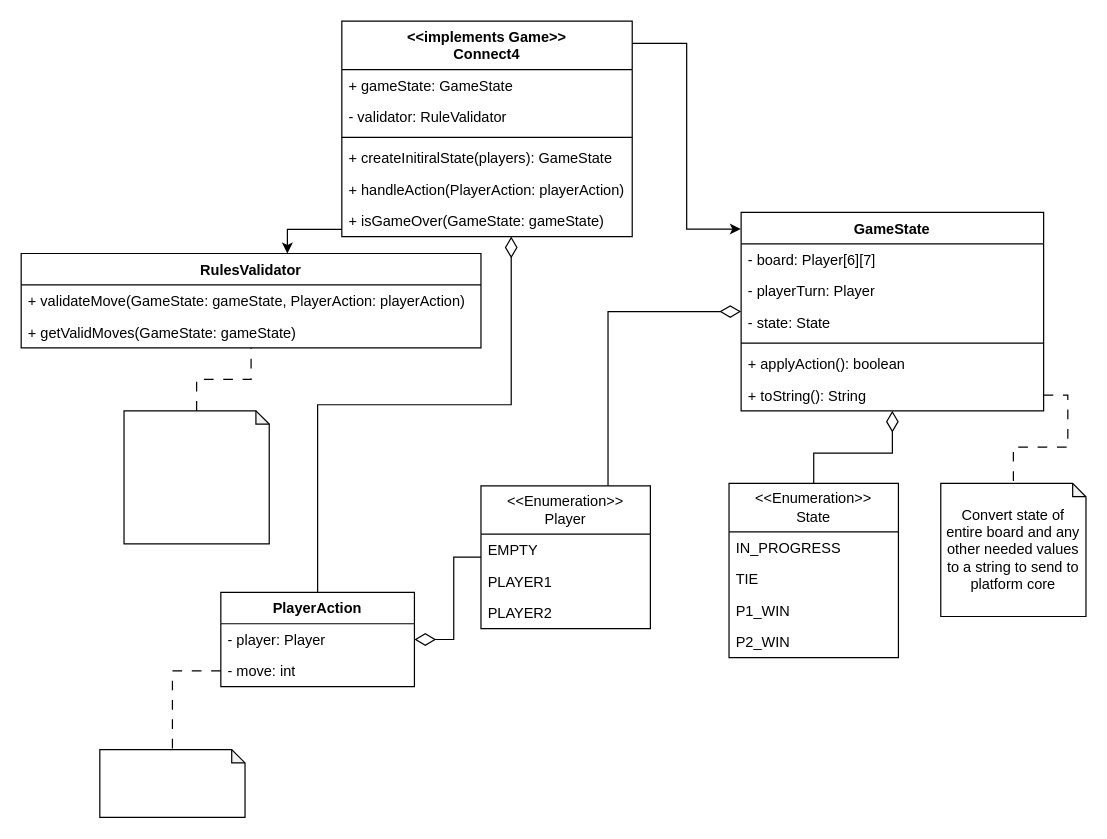
Image size: 1107x839. Some labels were removed from this diagram. The centre of each missing label's shape, as x and y in pixels:
Int is a column of the board: the point at 172,782
Valid moves are placing a piece in a column that is not full: the point at 196,477
